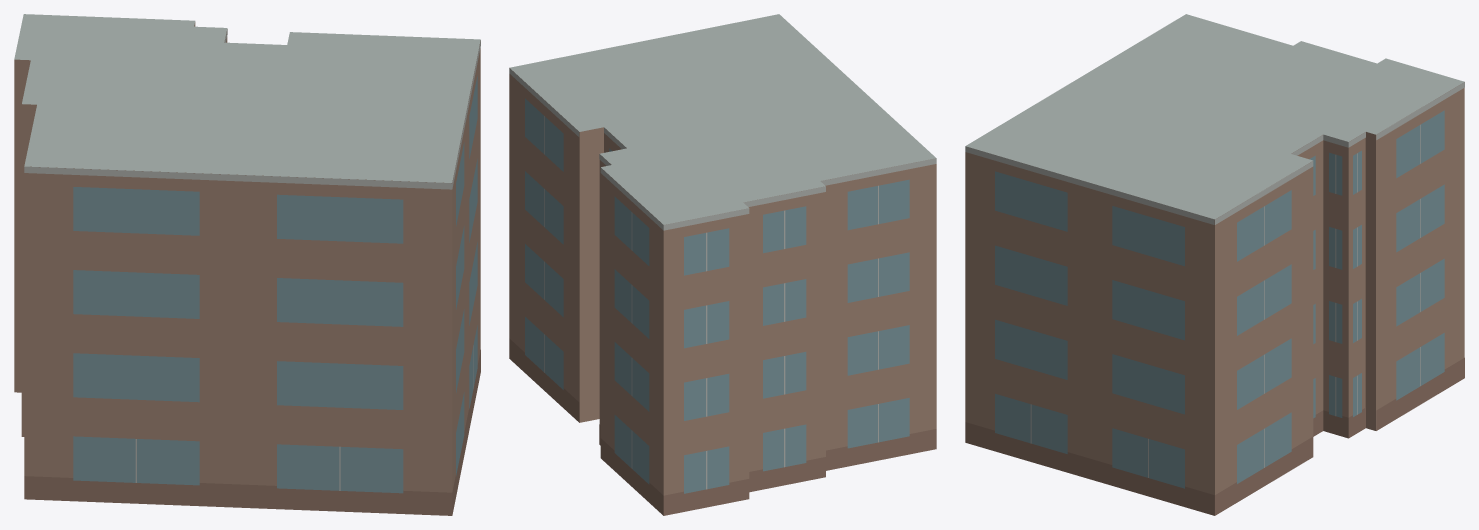
The model's file is survey-upis-32725954.glb.
The picture shows the model from 3 angles, left to right: view 1: azimuth 30°, elevation 25°; view 2: azimuth 150°, elevation 25°; view 3: azimuth 270°, elevation 25°; orthographic projection. The views are drawn at different scales.
Visible parts, largest first — view 1: survey-upis-32725954.tmp; view 2: survey-upis-32725954.tmp; view 3: survey-upis-32725954.tmp.
Boxes of the visible parts, x1,y1,x2,y2 form: survey-upis-32725954.tmp: (14, 14, 480, 515); survey-upis-32725954.tmp: (509, 14, 936, 515); survey-upis-32725954.tmp: (965, 14, 1464, 515).
Size of the model in its own units: 18.59 by 12.5 by 19.1.
